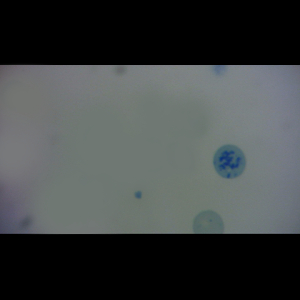aggregate reticulocyte: (212, 143, 248, 180)
